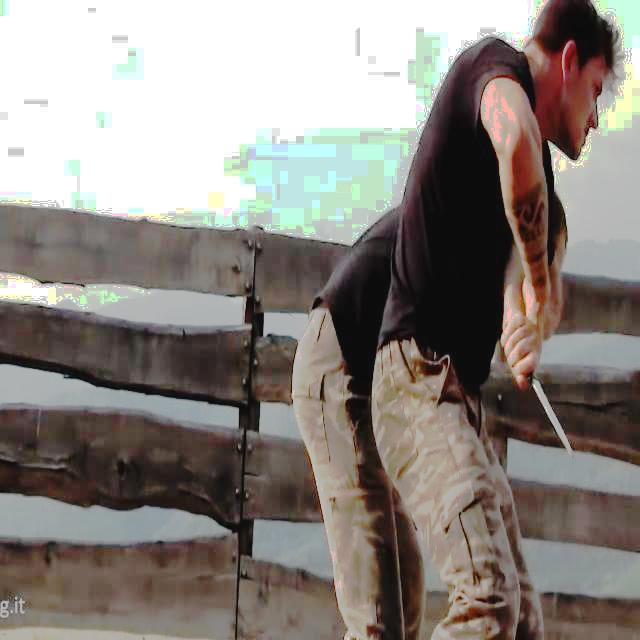Knife: (521, 371, 577, 462)
